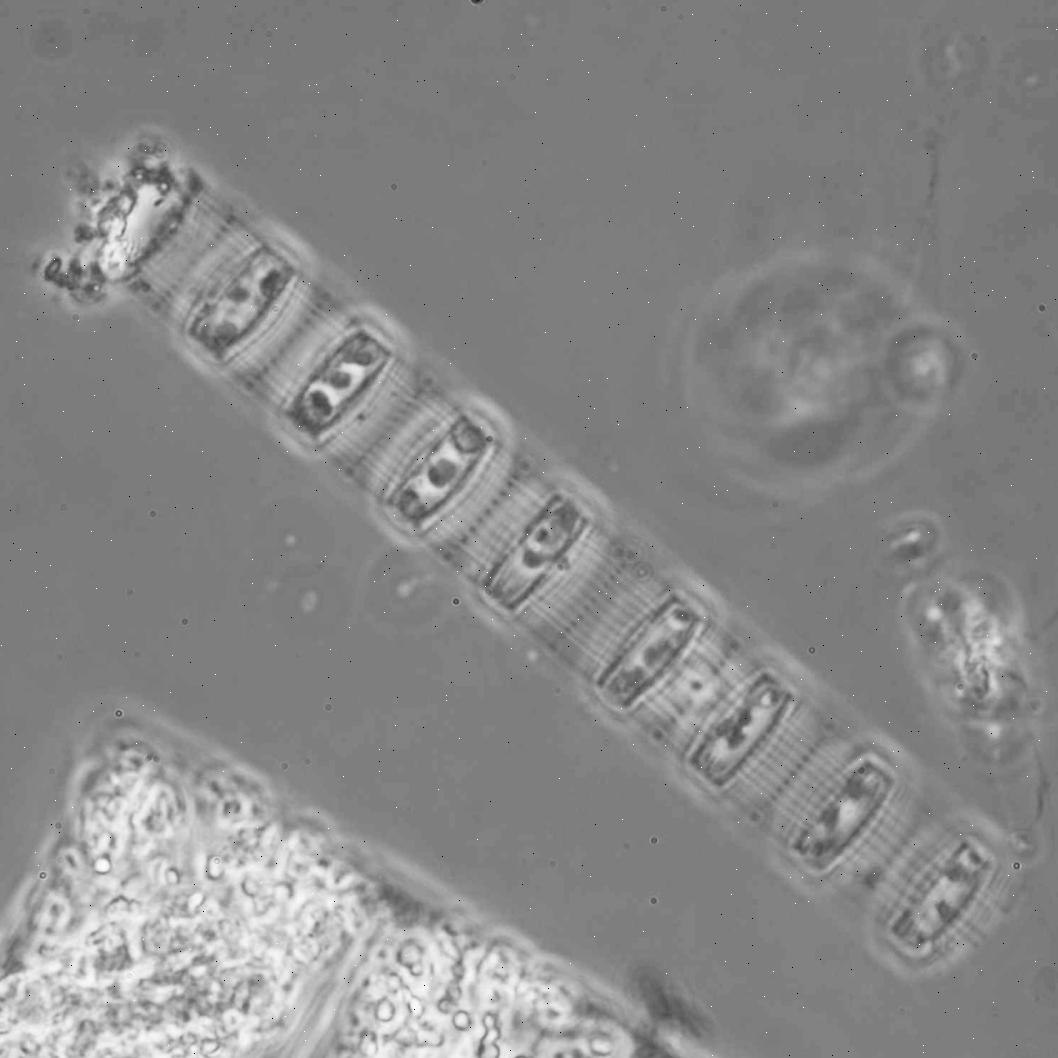skeletonema_costatum: (95, 161, 1001, 963)
